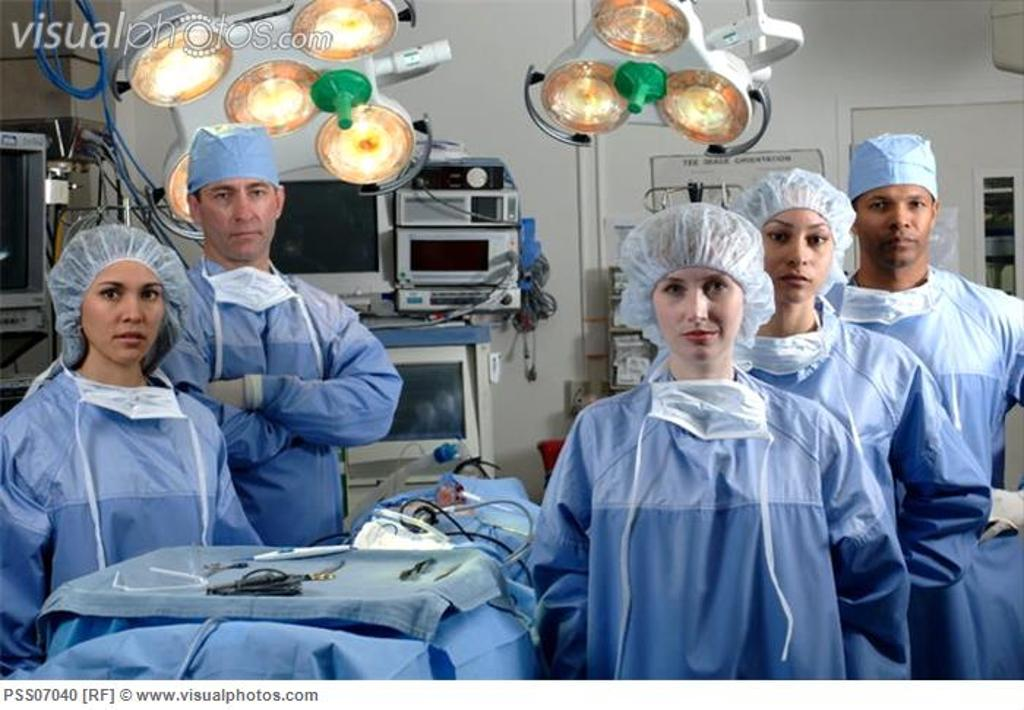face: (82, 260, 170, 364), (652, 260, 732, 362), (204, 160, 276, 250), (860, 178, 928, 264), (766, 216, 832, 304)
